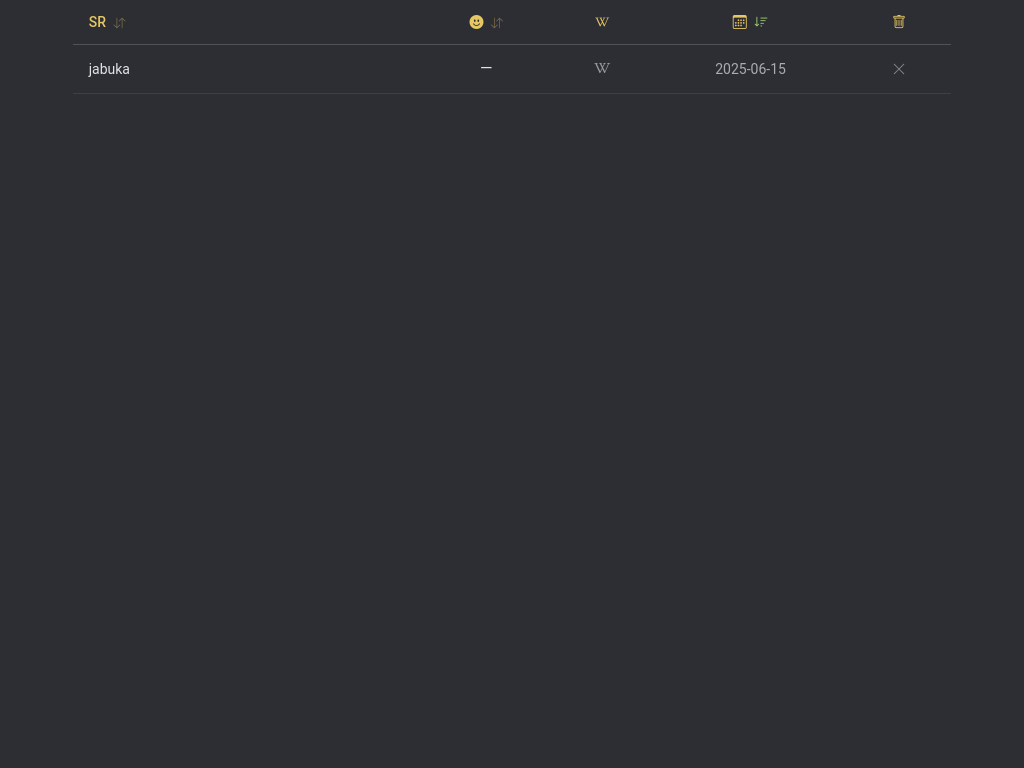
Scenario: FavoritesTable › touch swipe › swipe overlay click dismisses swipe
This screenshot has width=1024, height=768.
Press the mouse on the row "jabuka — 2025-06-15" at coordinates (512, 69), box [73,44,951,94]
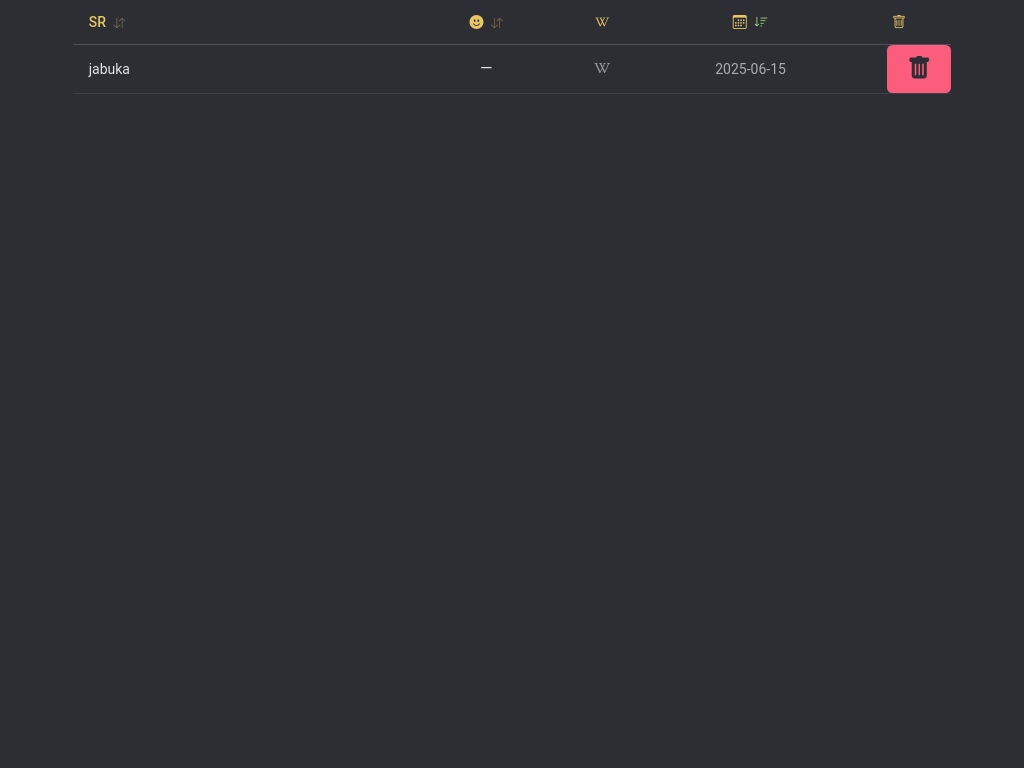
Click the element with class "inset-0".
click(520, 384)  # box [15,0,1023,767]
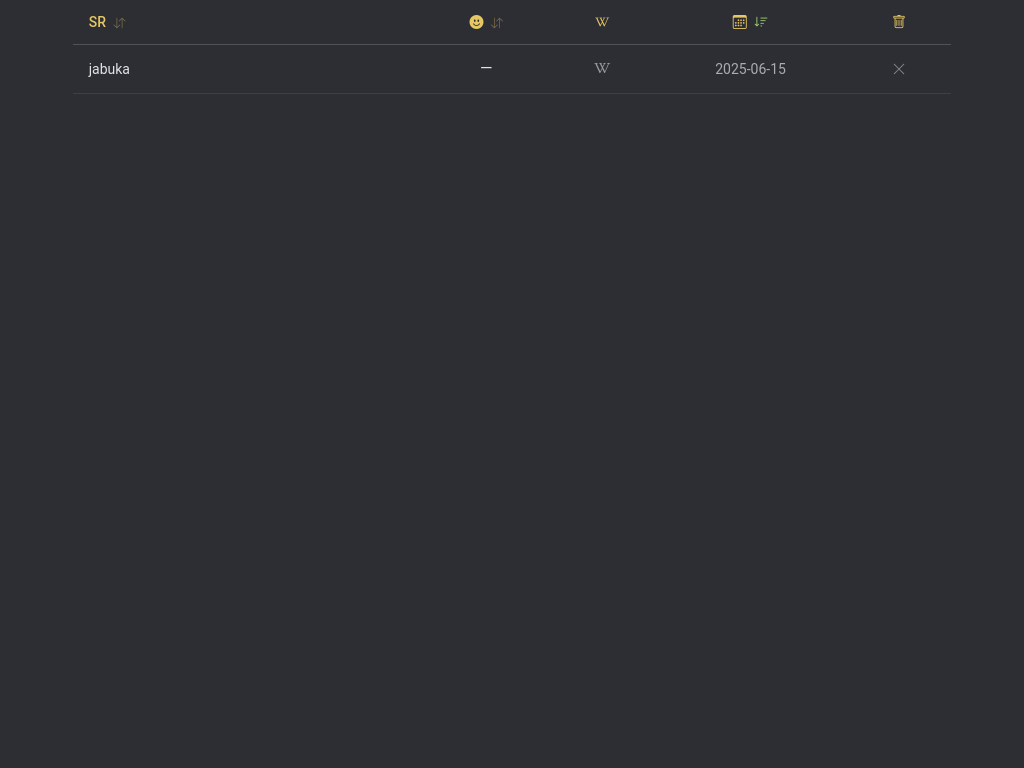
Now the element with class "inset-0" is gone
